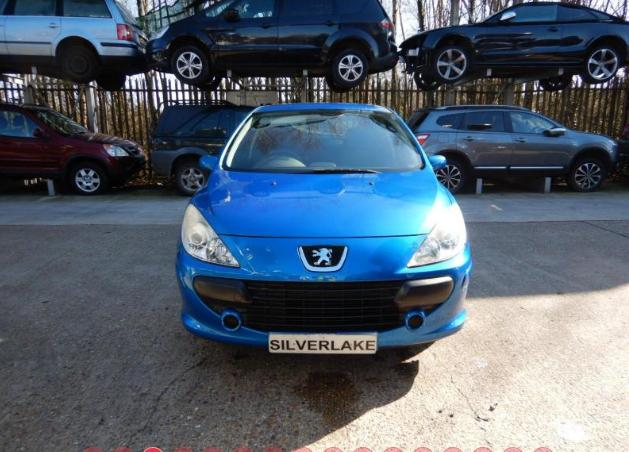Fender: (437, 180, 458, 204)
Front-bumper: (176, 235, 471, 348)
Grille: (193, 276, 454, 333)
Headlight: (405, 203, 467, 265), (180, 203, 239, 267)
Hood: (189, 168, 451, 237)
License-plate: (269, 333, 378, 353)
Mirror: (427, 156, 447, 171), (199, 156, 219, 170)
Roof: (252, 103, 396, 113)
Windshield: (223, 110, 424, 170)
